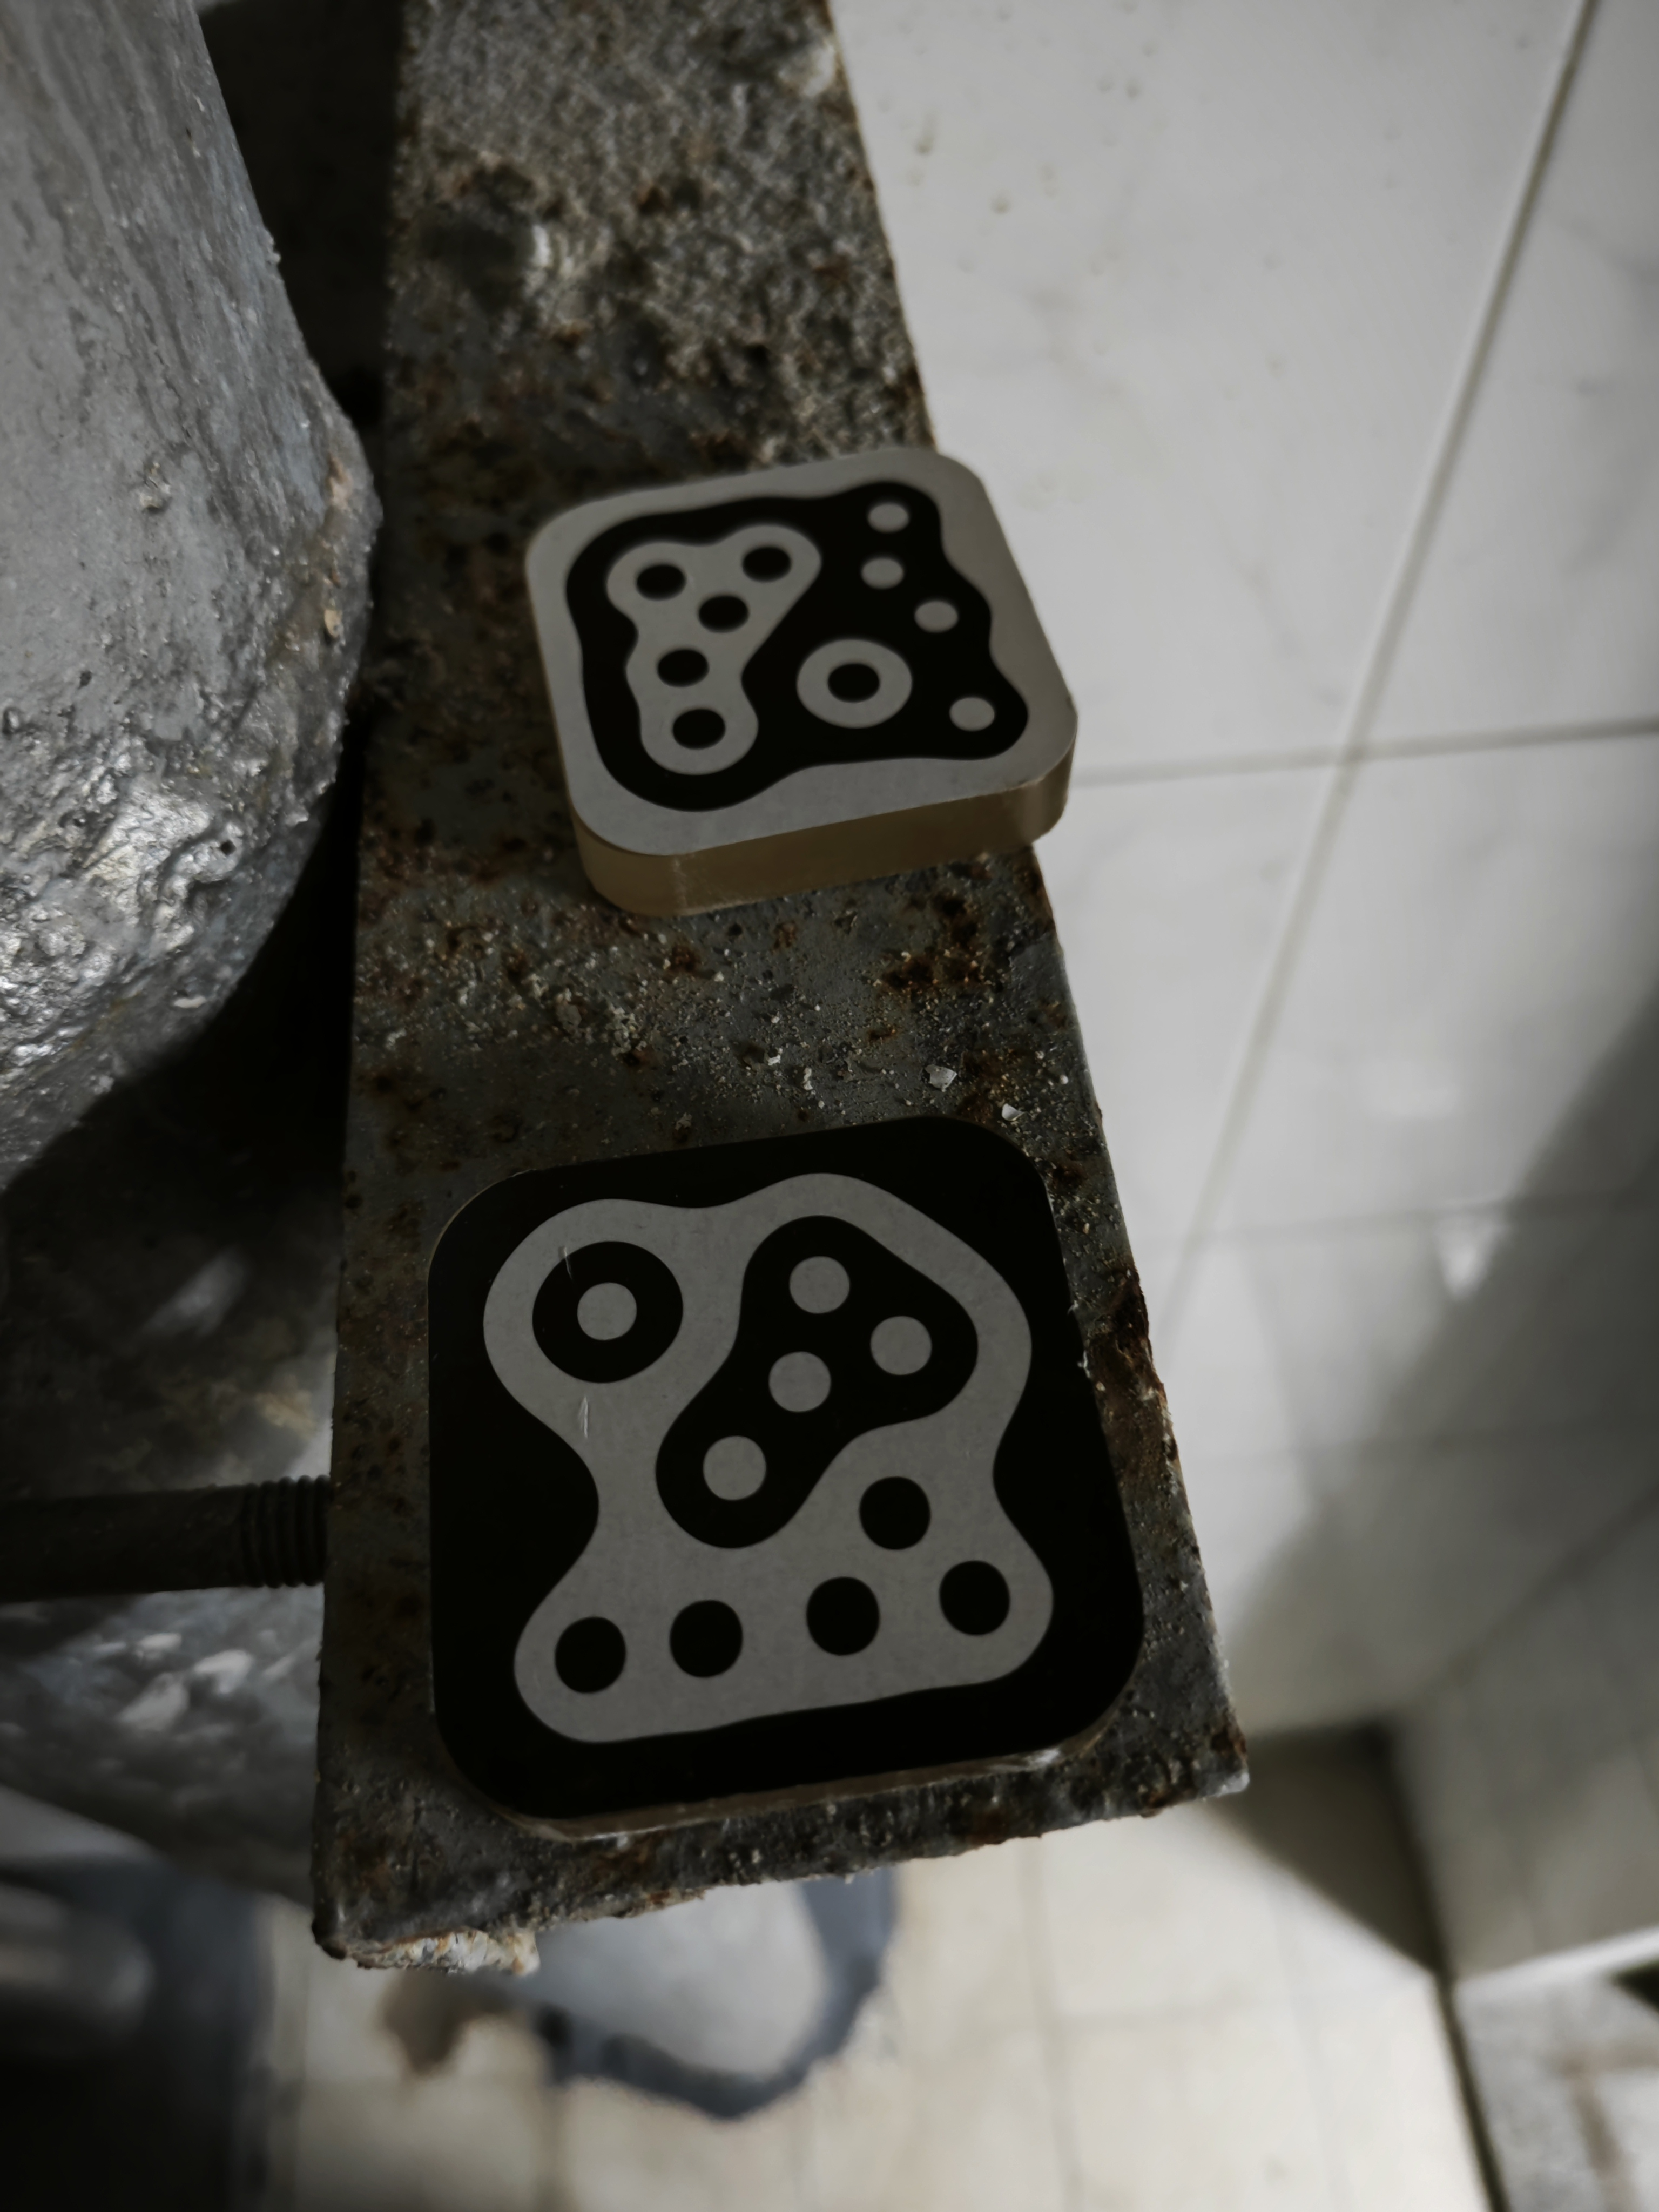mark1: (551, 470, 1044, 819)
mark2: (457, 1163, 1063, 1738)
